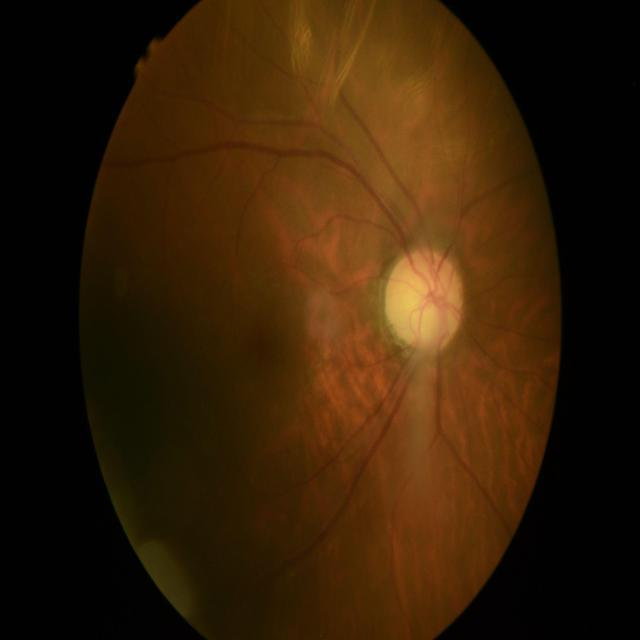cup: (398, 265, 450, 338)
disk: (384, 246, 464, 348)
